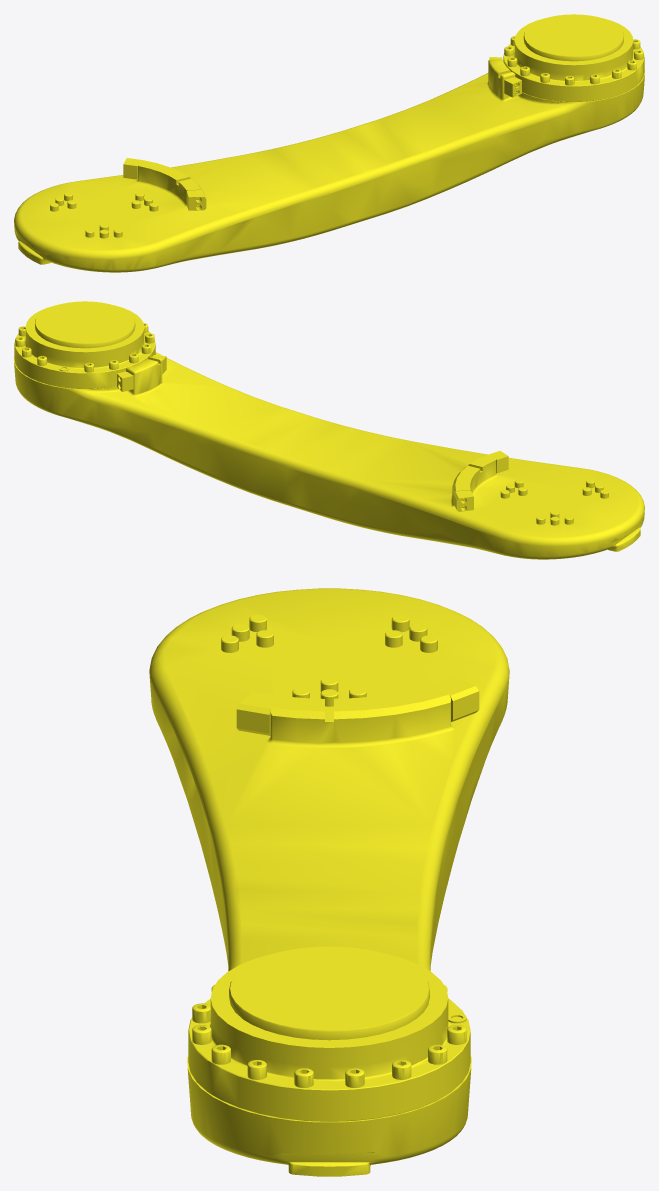
The picture shows the model from 3 angles, top to bottom: view 1: azimuth 30°, elevation 25°; view 2: azimuth 150°, elevation 25°; view 3: azimuth 270°, elevation 25°; orthographic projection. The views are drawn at different scales.
Parts seen in each view (by area): view 1: /Link2/Link2_005-mesh/0; view 2: /Link2/Link2_005-mesh/0; view 3: /Link2/Link2_005-mesh/0.
Boxes of the visible parts, x1,y1,x2,y2 form: /Link2/Link2_005-mesh/0: [14, 14, 644, 272]; /Link2/Link2_005-mesh/0: [14, 301, 644, 559]; /Link2/Link2_005-mesh/0: [149, 588, 509, 1176].
Bounding box in the file's own units: 0.9466 × 0.1806 × 0.2425.
